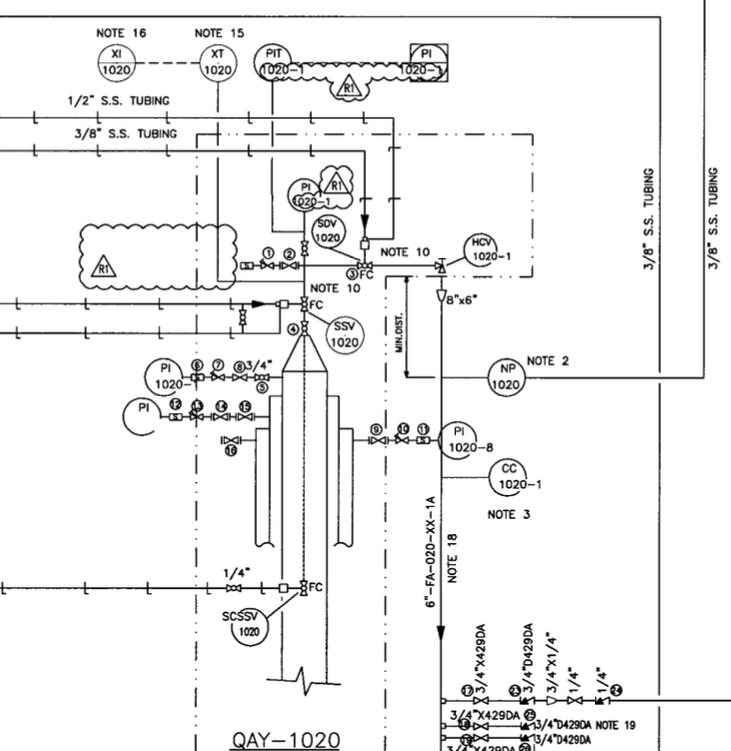Instrument: (322, 314, 369, 357), (485, 354, 529, 399), (96, 43, 142, 83), (197, 43, 240, 82), (308, 215, 348, 250)
Instrument-offset: (487, 456, 546, 499), (459, 227, 516, 269), (211, 608, 273, 646), (251, 40, 304, 83), (437, 422, 496, 460), (140, 357, 188, 397), (280, 180, 333, 210)
Instrument-square-offset: (394, 35, 458, 88)
